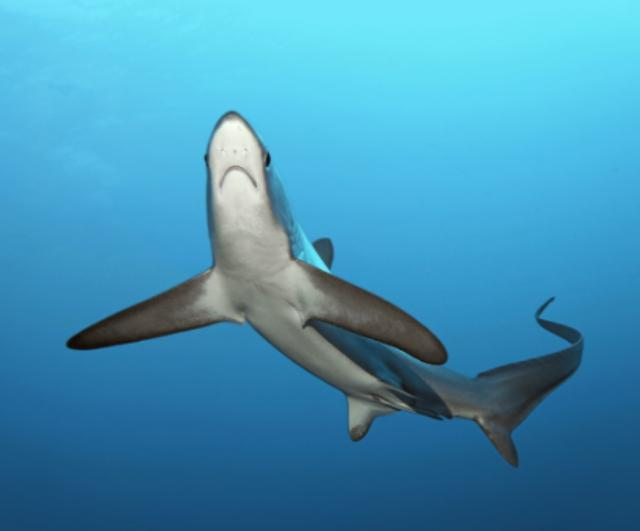Mulut: (206, 156, 270, 206)
Sirip Dada: (49, 258, 459, 374)
Sirip Ekor: (466, 282, 600, 474)
Sirip Perut: (329, 380, 447, 448)
Sirip Punggung: (310, 228, 350, 282)
